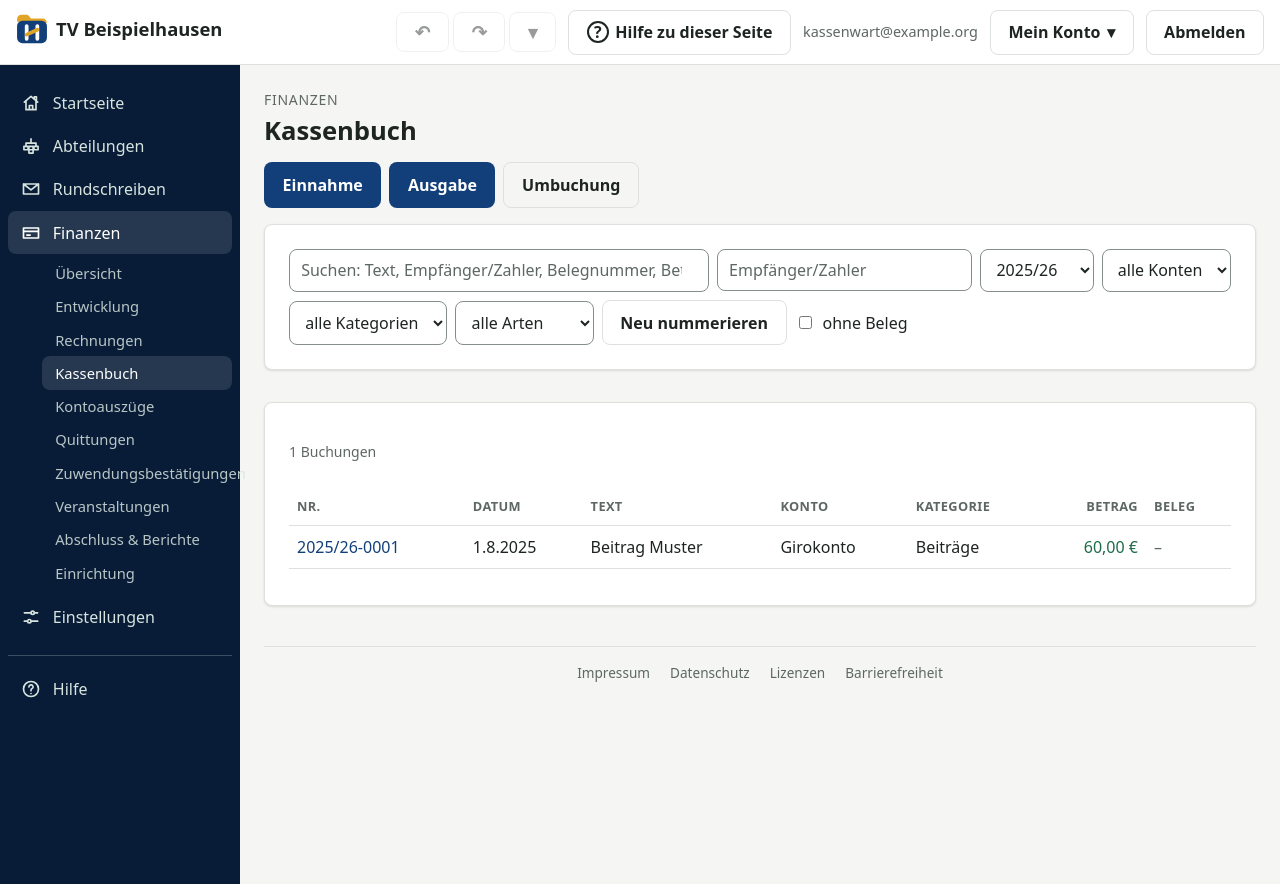
Kasse › erfasst eine Ausgabe an ein Geschäft mit Vorschlag
Check: the button "2025/26-0001" is shown, box x1=297 y1=535 x2=400 y2=559
Step 1. Click the button "Ausgabe" → coordinates (442, 185), box x1=389 y1=162 x2=496 y2=208
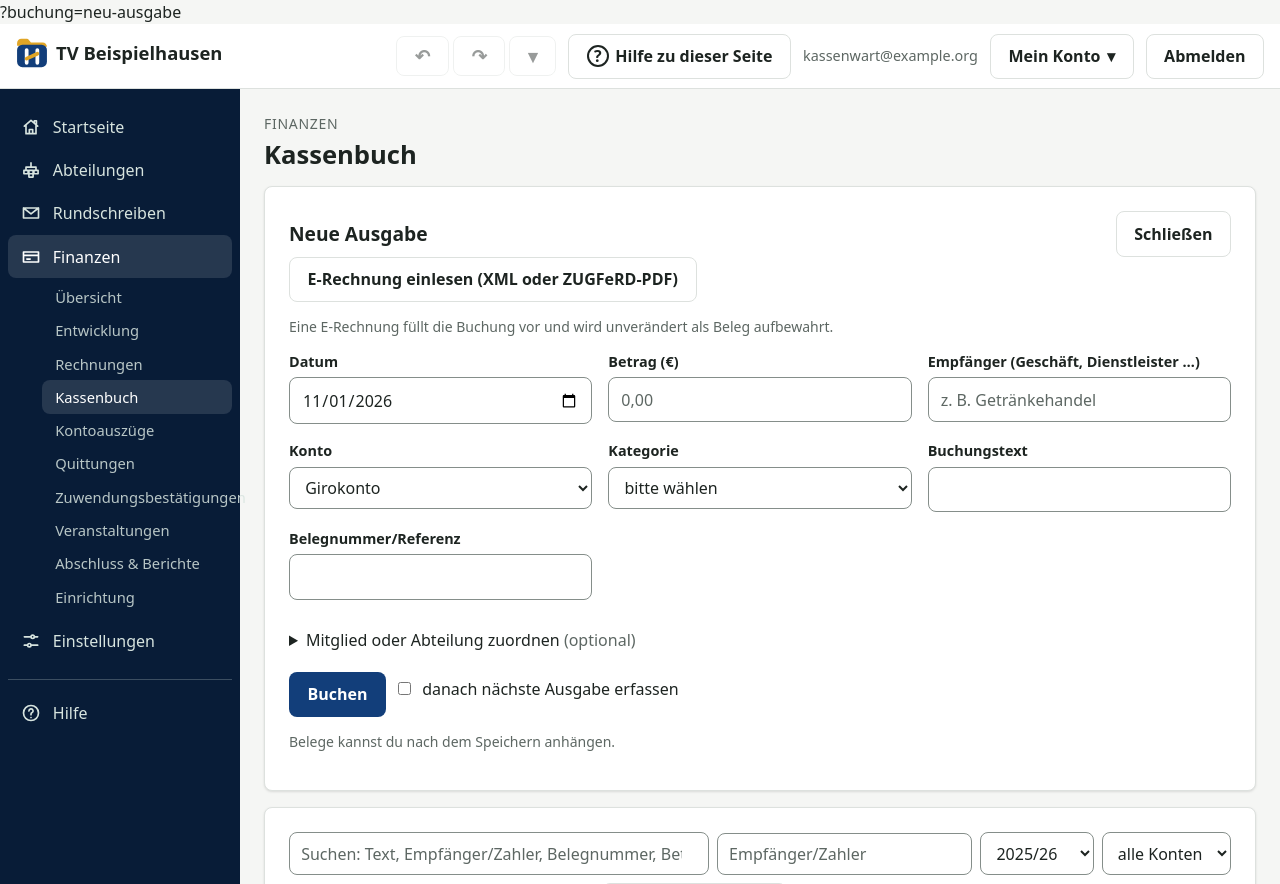
Step 2. Type "45,90" into the field labelled "Betrag (€)" → coordinates (760, 400), box x1=608 y1=377 x2=912 y2=422
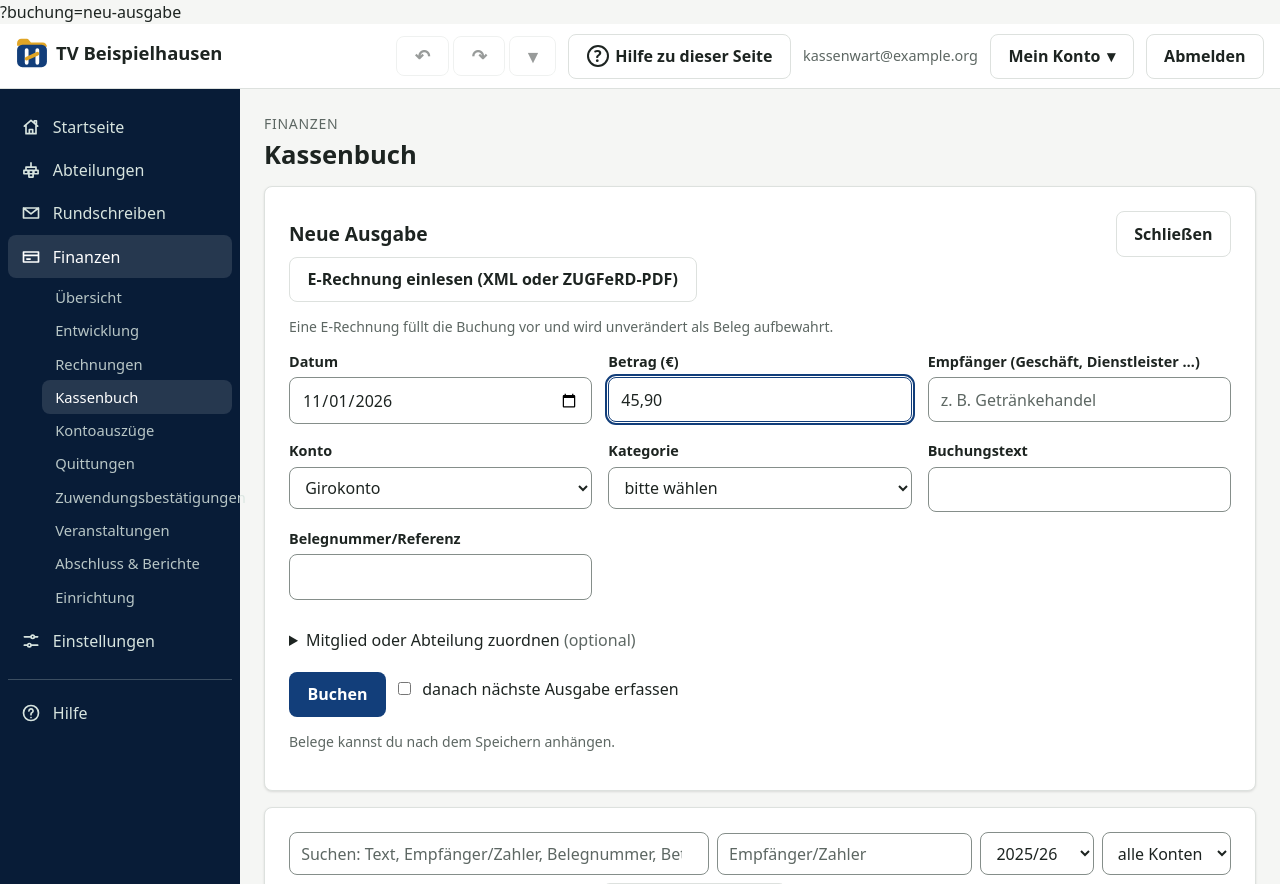
Step 3. Type "Getränke Müller" into the field labelled "Empfänger (Geschäft, Dienstleister …)" → coordinates (1079, 400), box x1=928 y1=377 x2=1231 y2=422
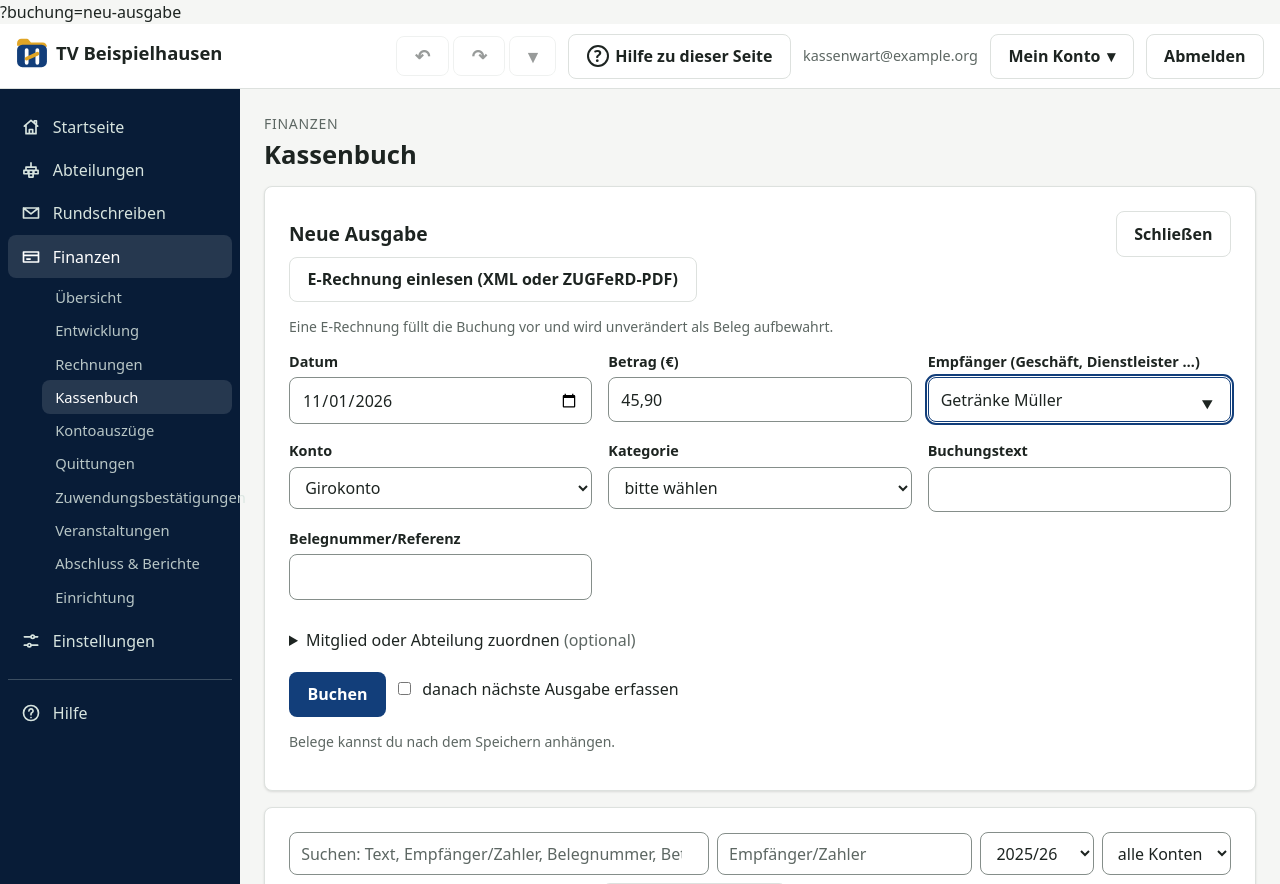
Step 4. Select "Material" in the dropdown labelled "Kategorie" → coordinates (760, 488), box x1=608 y1=467 x2=912 y2=509
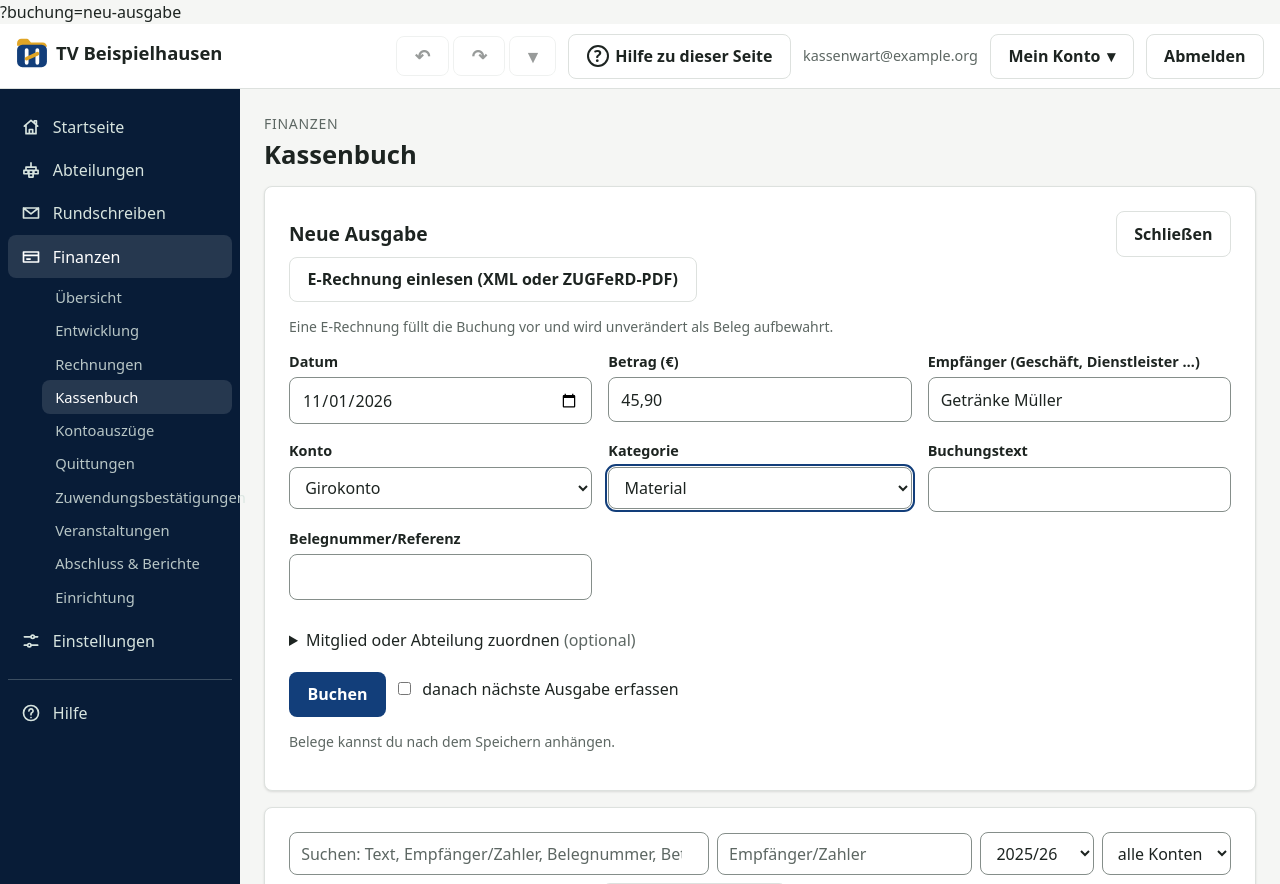
Step 5. Type "Wasser und Saft" into the field labelled "Buchungstext" → coordinates (1079, 489), box x1=928 y1=467 x2=1231 y2=512
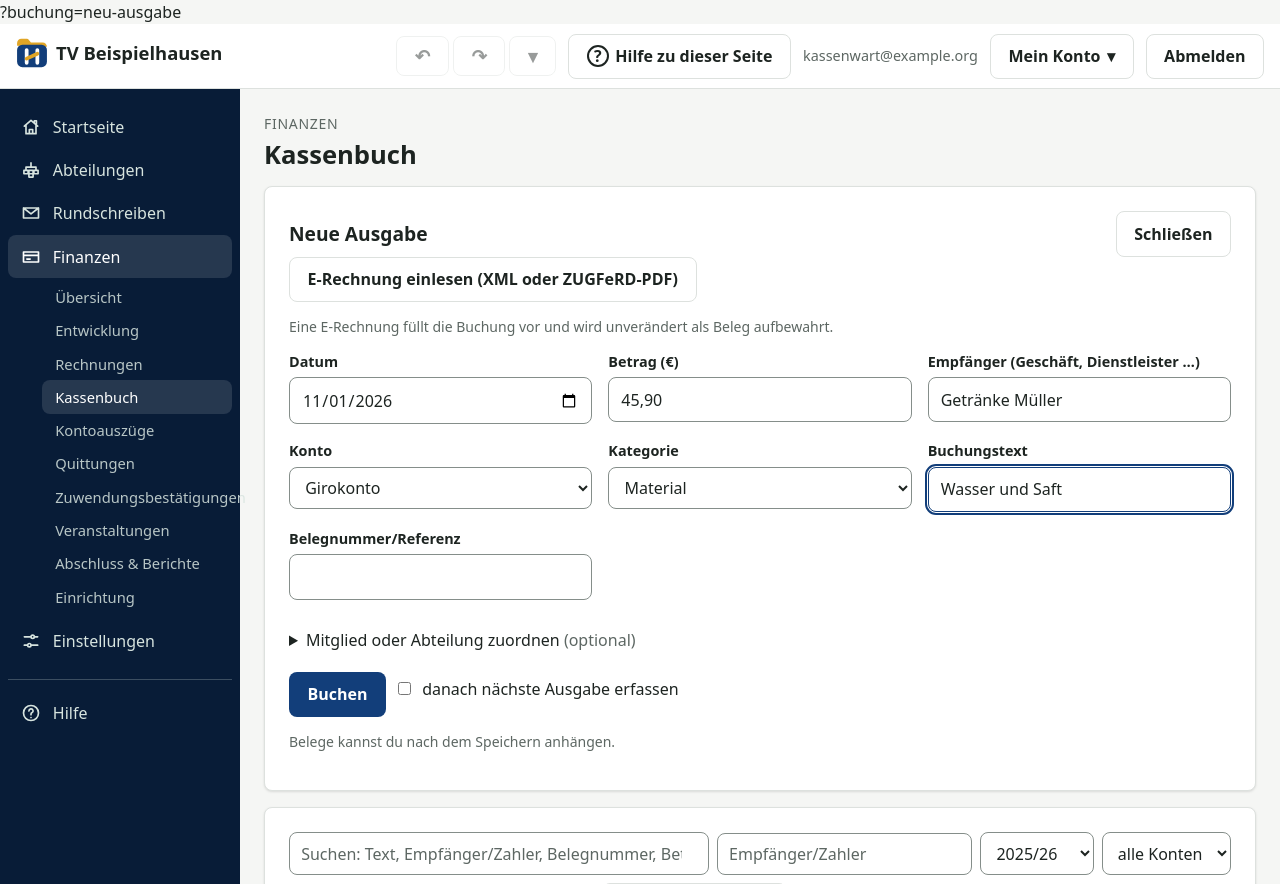
Step 6. Click the button "Buchen" → coordinates (338, 694), box x1=289 y1=672 x2=386 y2=717
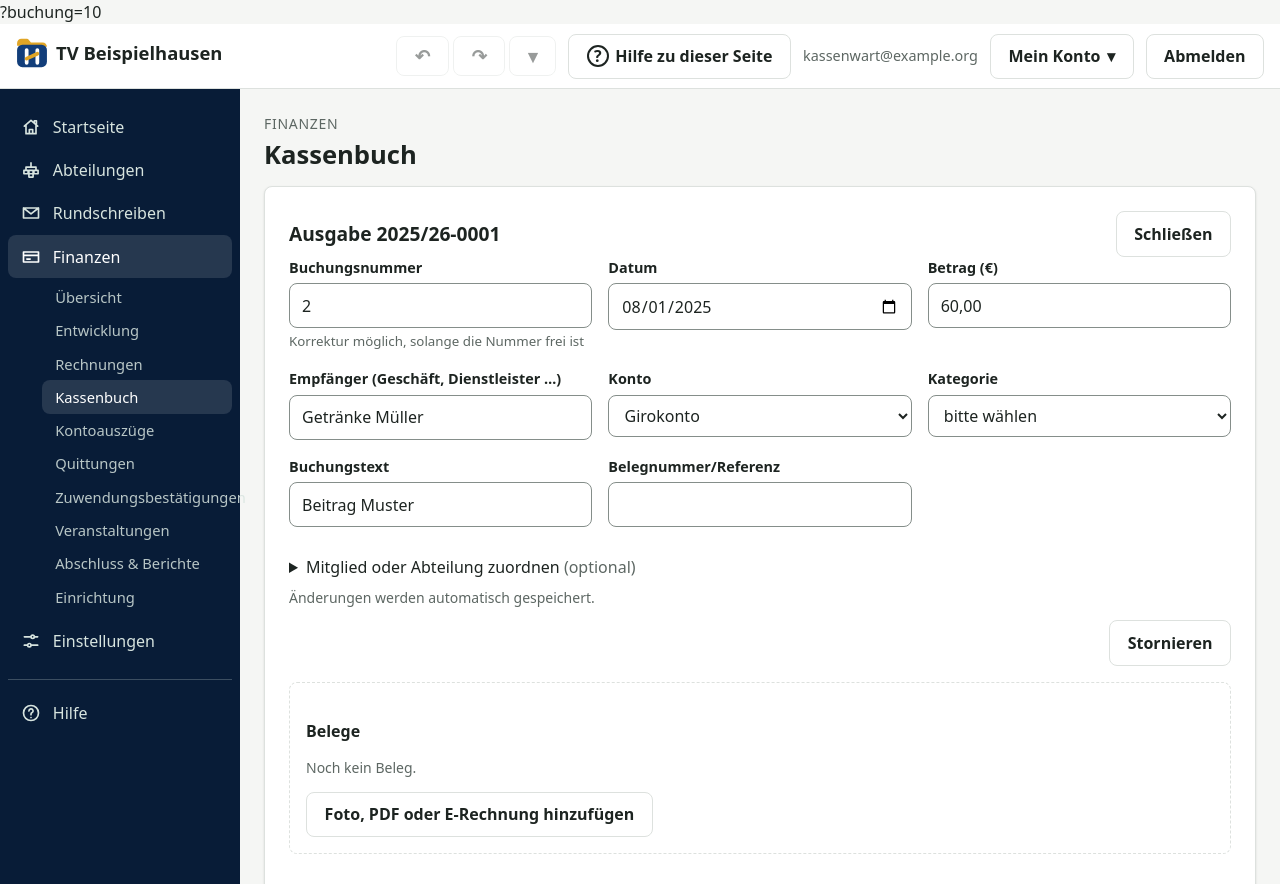
Check: the heading "Ausgabe 2025/26-0001" is shown, box x1=289 y1=220 x2=500 y2=248
